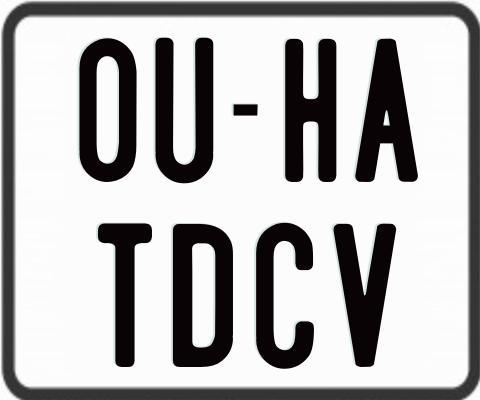0: (77, 36, 137, 186)
A: (353, 38, 421, 186)
C: (254, 220, 312, 366)
D: (172, 222, 232, 370)
H: (285, 37, 337, 180)
T: (96, 223, 152, 372)
U: (152, 35, 214, 180)
V: (330, 221, 399, 366)
